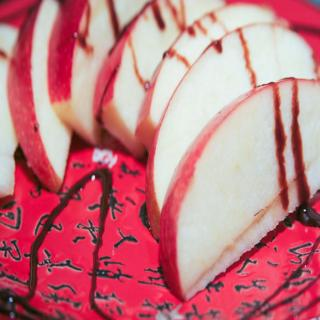Apple: (0, 0, 320, 244), (156, 89, 300, 298)
